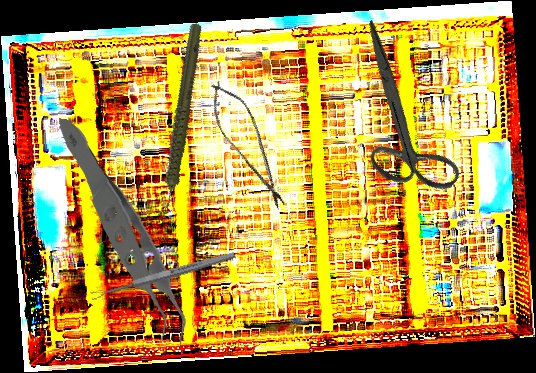Handpiece: (116, 21, 241, 218)
Iris Scissors: (299, 19, 502, 215)
Micro Scissor: (198, 72, 299, 217)
Surgical Spoon: (90, 250, 236, 301)
Tissue Forceps: (45, 118, 198, 360)
